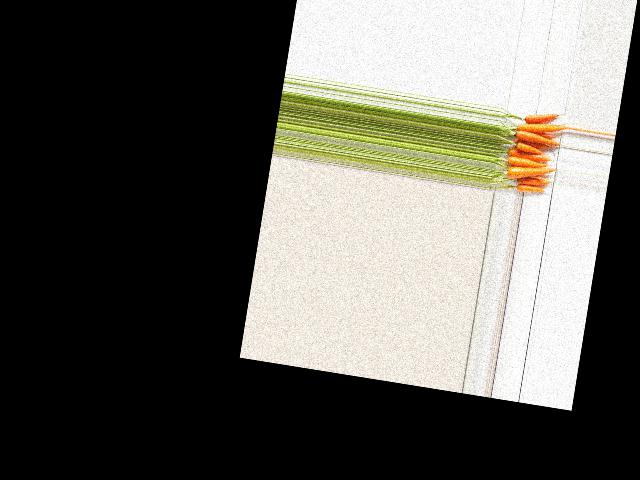carrot: (513, 179, 549, 198)
